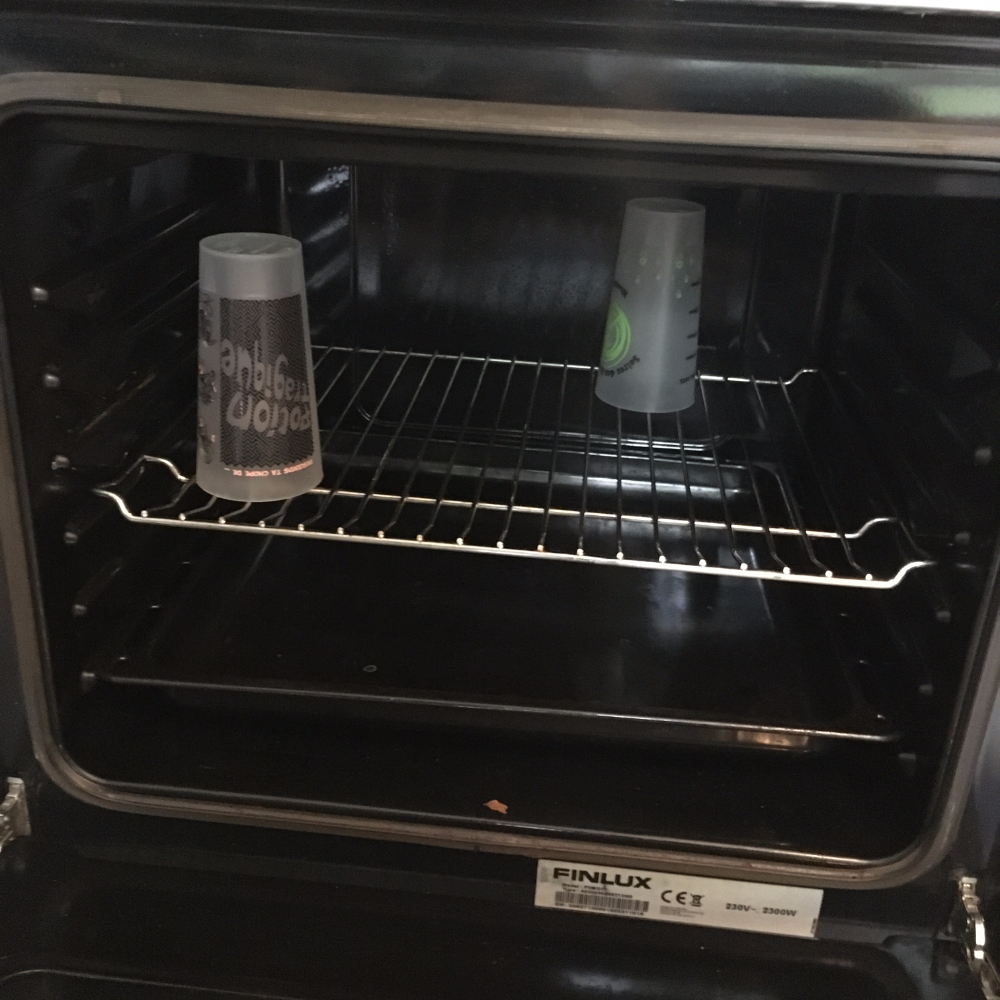ecocup: (196, 231, 324, 502), (594, 195, 707, 414)
